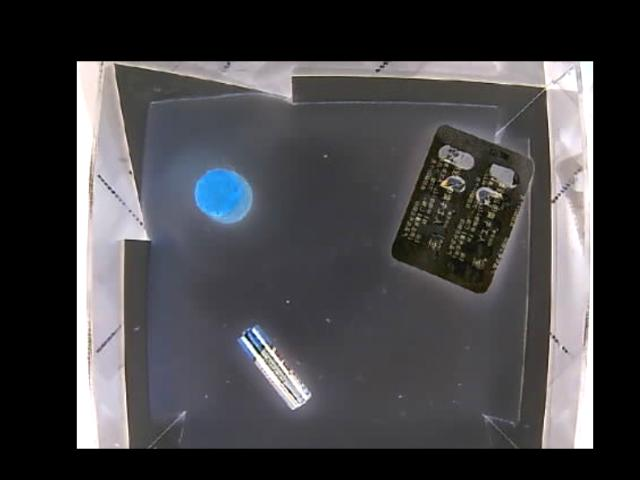Battery: (237, 324, 314, 413)
Carrot: (193, 168, 254, 225)
Medicine: (389, 124, 533, 296)
